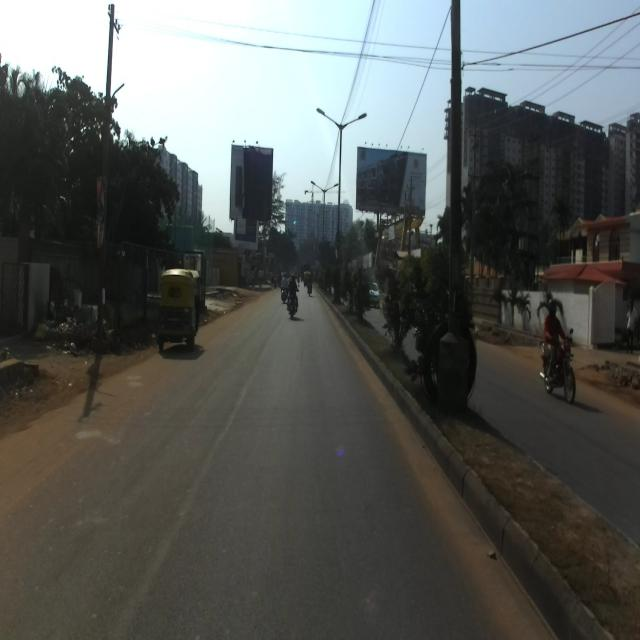autorickshaw: (156, 267, 202, 351)
motorcycle_Hero: (539, 327, 576, 403)
